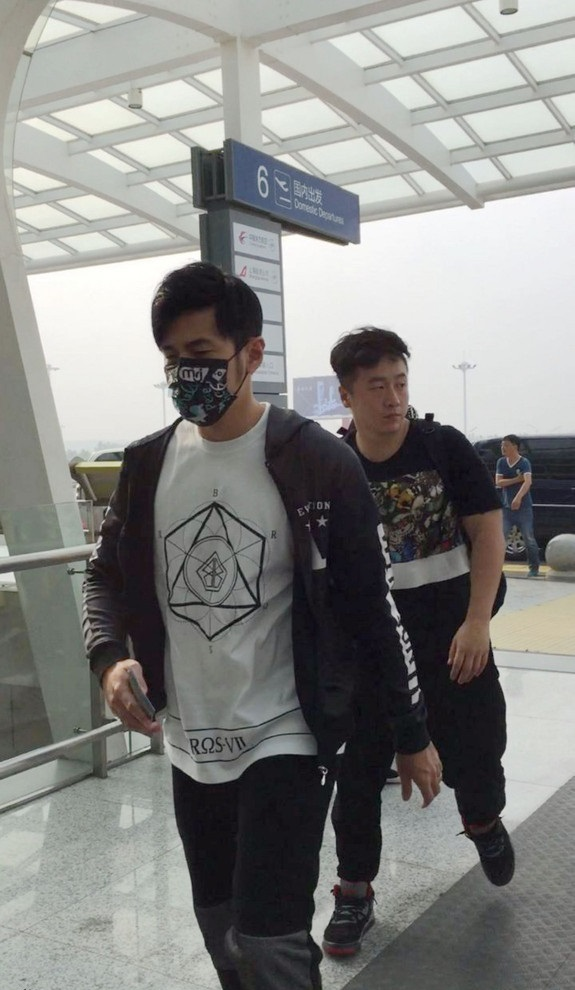face: (363, 364, 408, 435)
face_mask: (164, 328, 233, 426)
